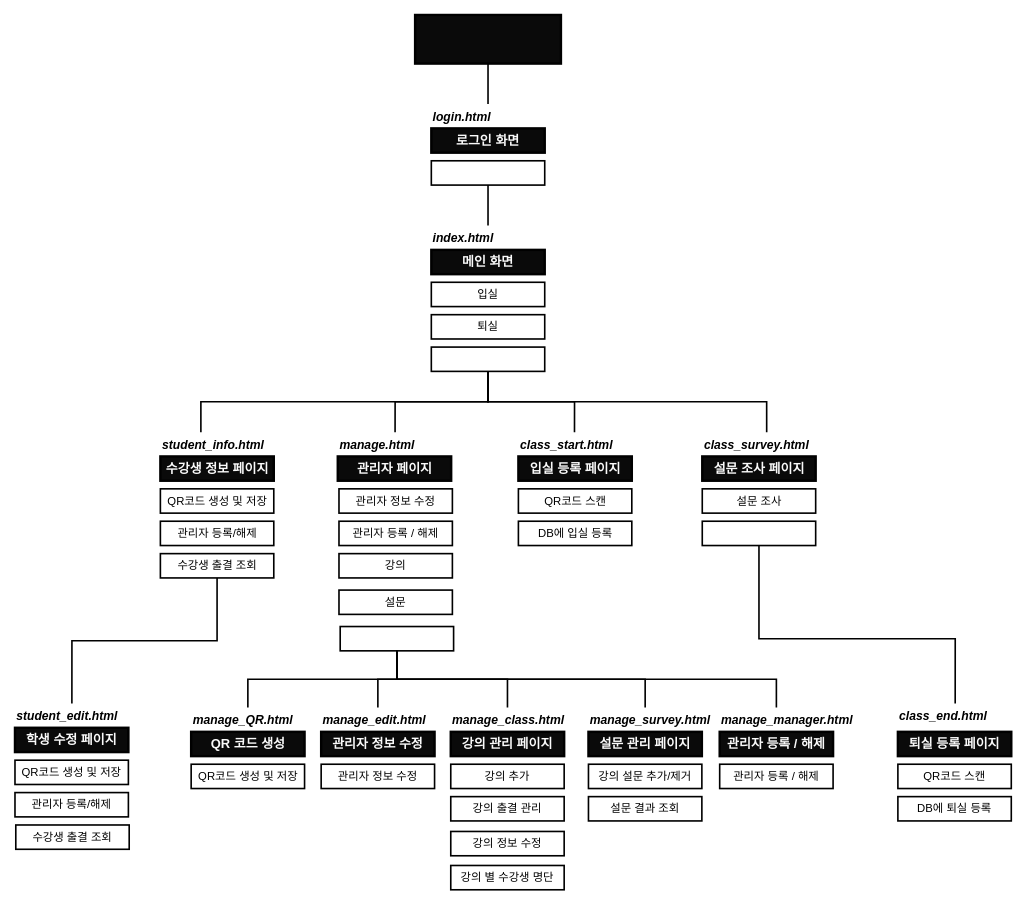
This 1026x905 diagram has some shape labels left out. Each missing label, with the centre of its shape:
Attendance App: (x=488, y=38)
QR코드 생성: (x=396, y=638)
관리 페이지 이동: (x=487, y=359)
로그인 기능: (x=487, y=172)
퇴실 등록 페이지 이동: (x=758, y=533)
